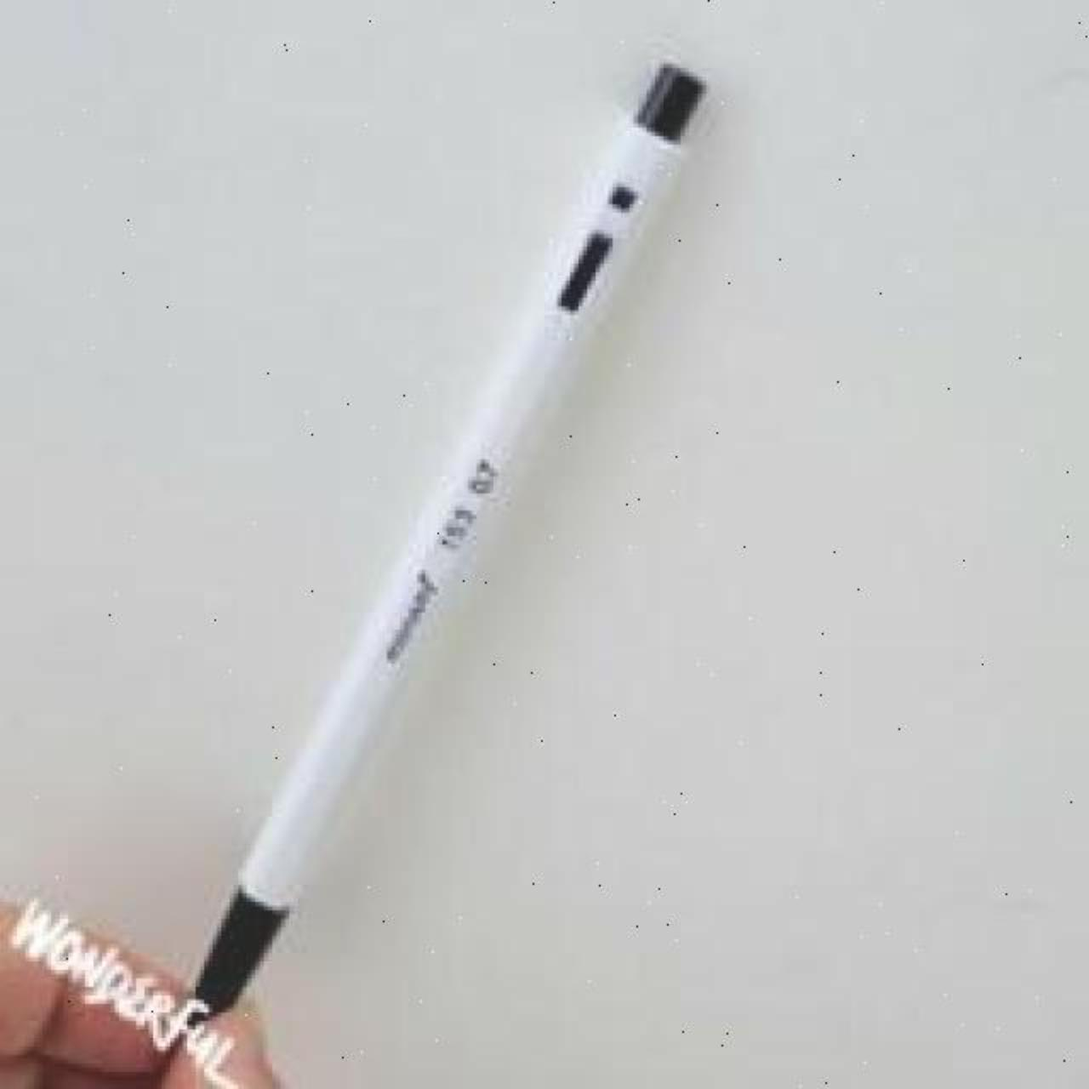pen: (187, 56, 728, 1023)
